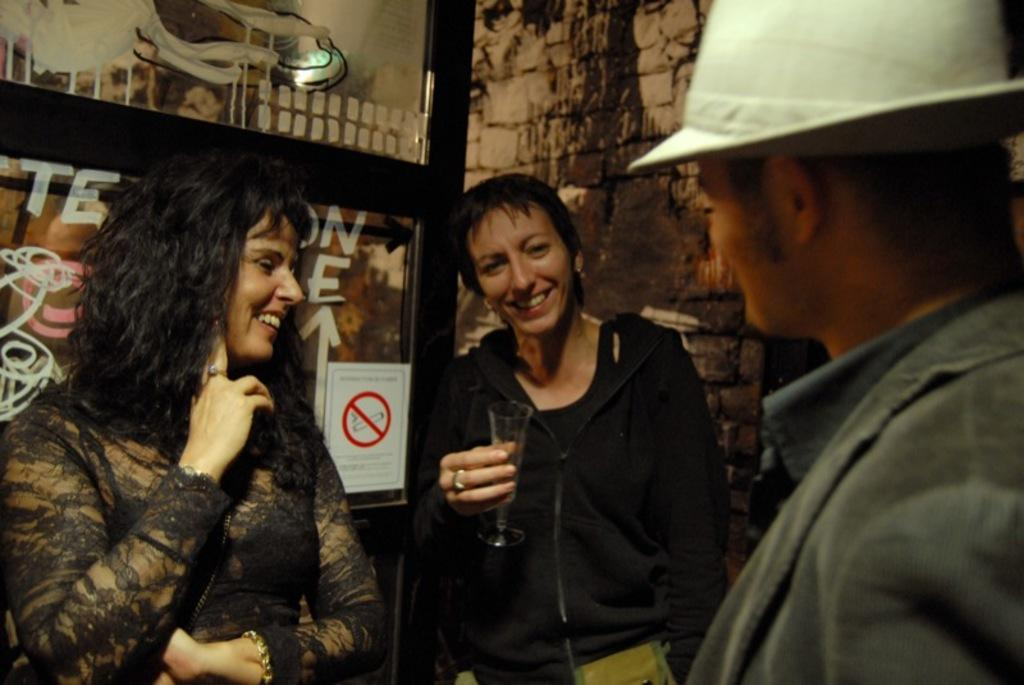Hat: (626, 0, 1022, 179)
